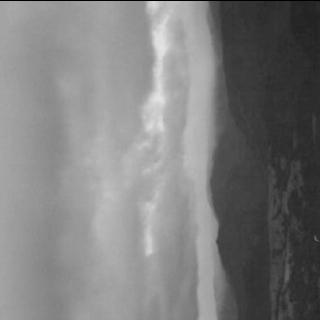Stratocumulus: (0, 0, 219, 320)
